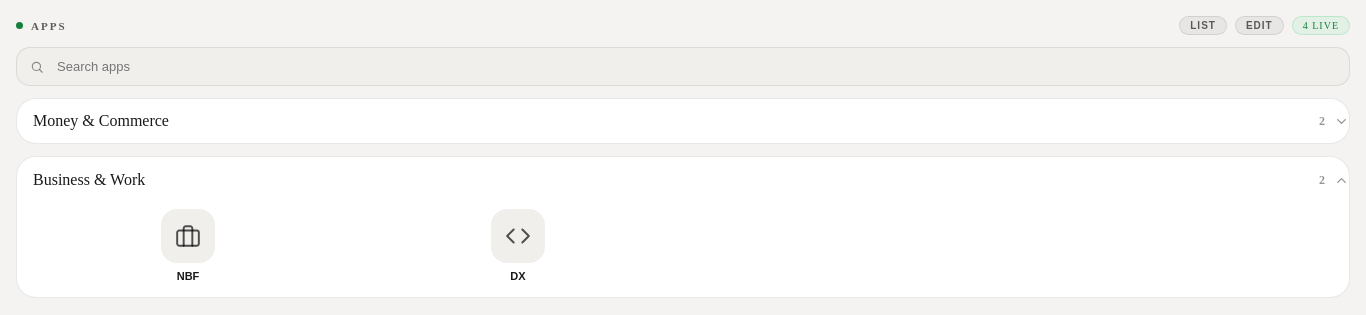
search overrides the state › shows a match that lives in a collapsed group
Expected: the text "Assets" is not shown
Type "assets" into the field with placeholder "Search apps". click: (683, 66)
box: [16,47,1350,86]
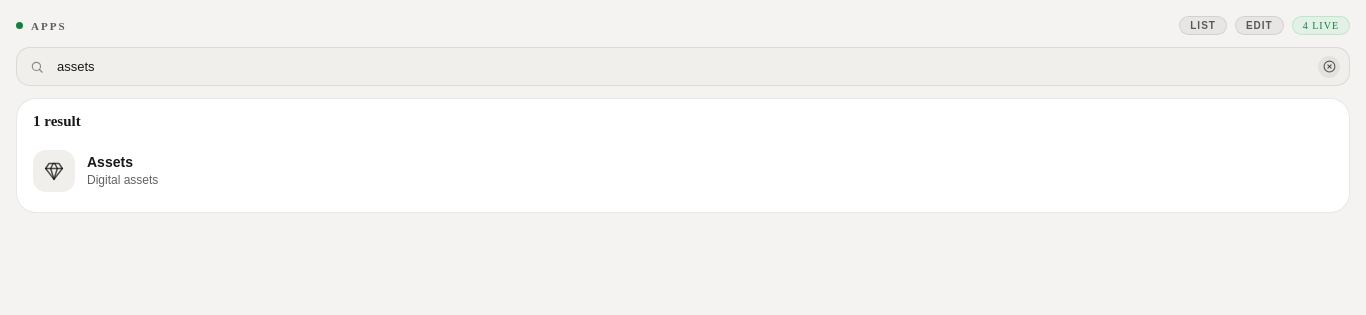
Expected: the text "Assets" is shown, [87,154,133,170]
